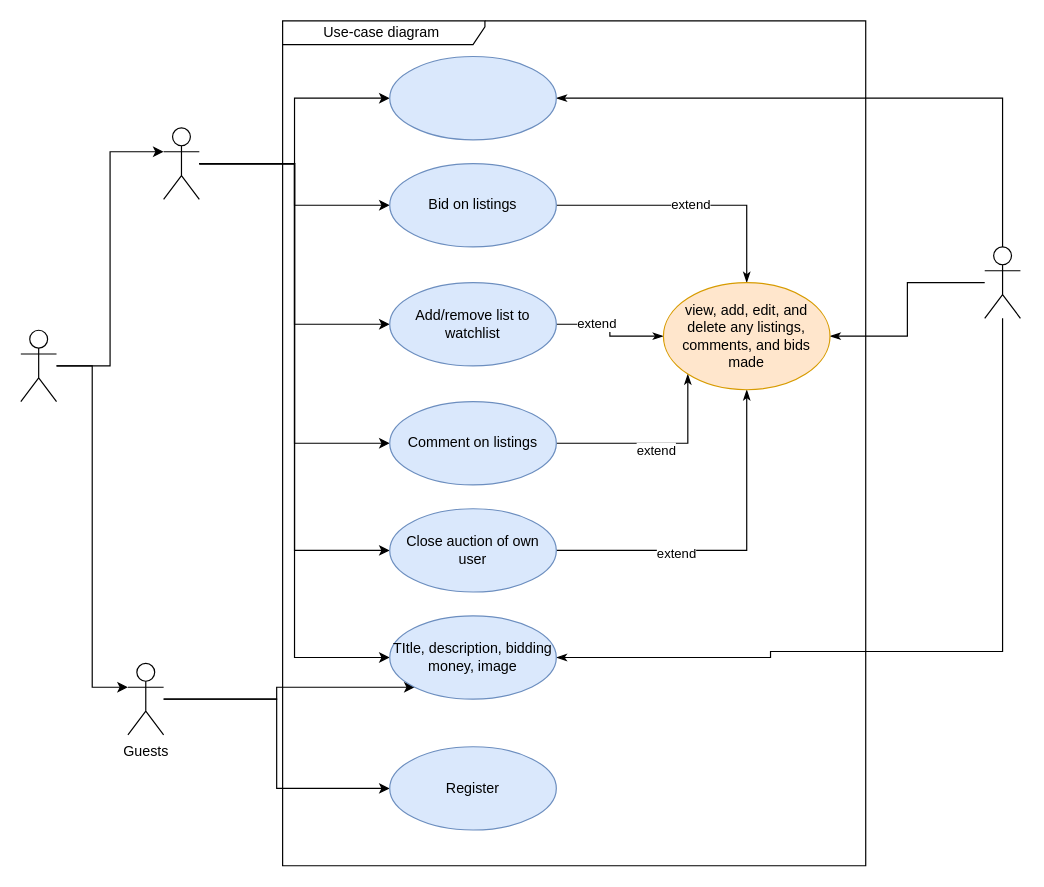
Image size: 1044x887. Some labels were removed from this diagram. The shapes that lost their labels are listed below. From the top down, each one's box as (x1, y1, x2, y2) in pixels, then its label:
(389, 55, 556, 140): Create listing
(162, 127, 199, 199): Login
(984, 246, 1020, 318): Admin
(20, 329, 57, 402): User
